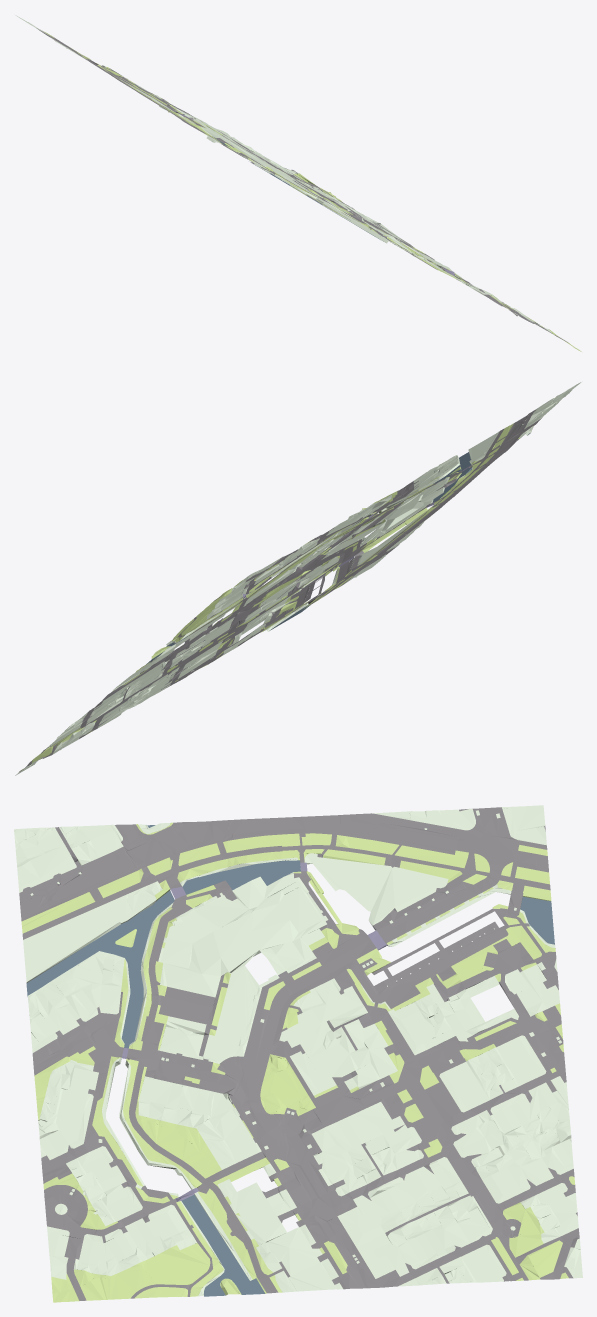
3 renders of one model, top to bottom at view 1: azimuth 30°, elevation 25°; view 2: azimuth 150°, elevation 25°; view 3: azimuth 270°, elevation 25°, orthographic. The views are drawn at different scales.
Size of the model in its own units: 217 by 157 by 268.
